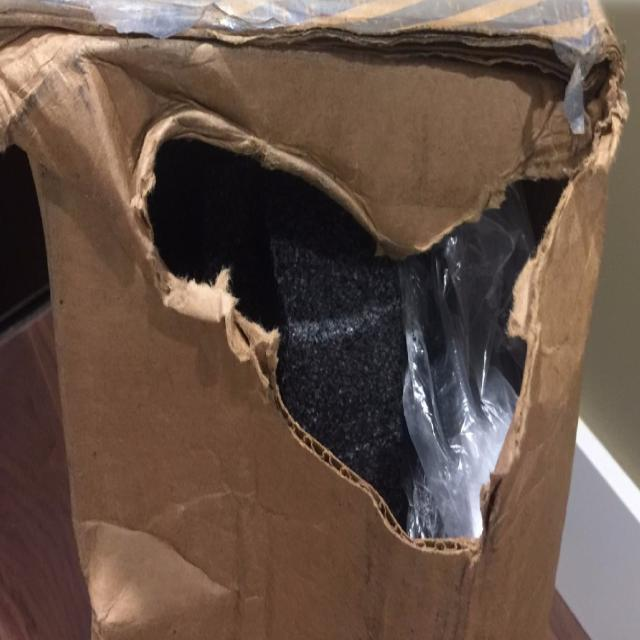damaged: (140, 97, 598, 577)
